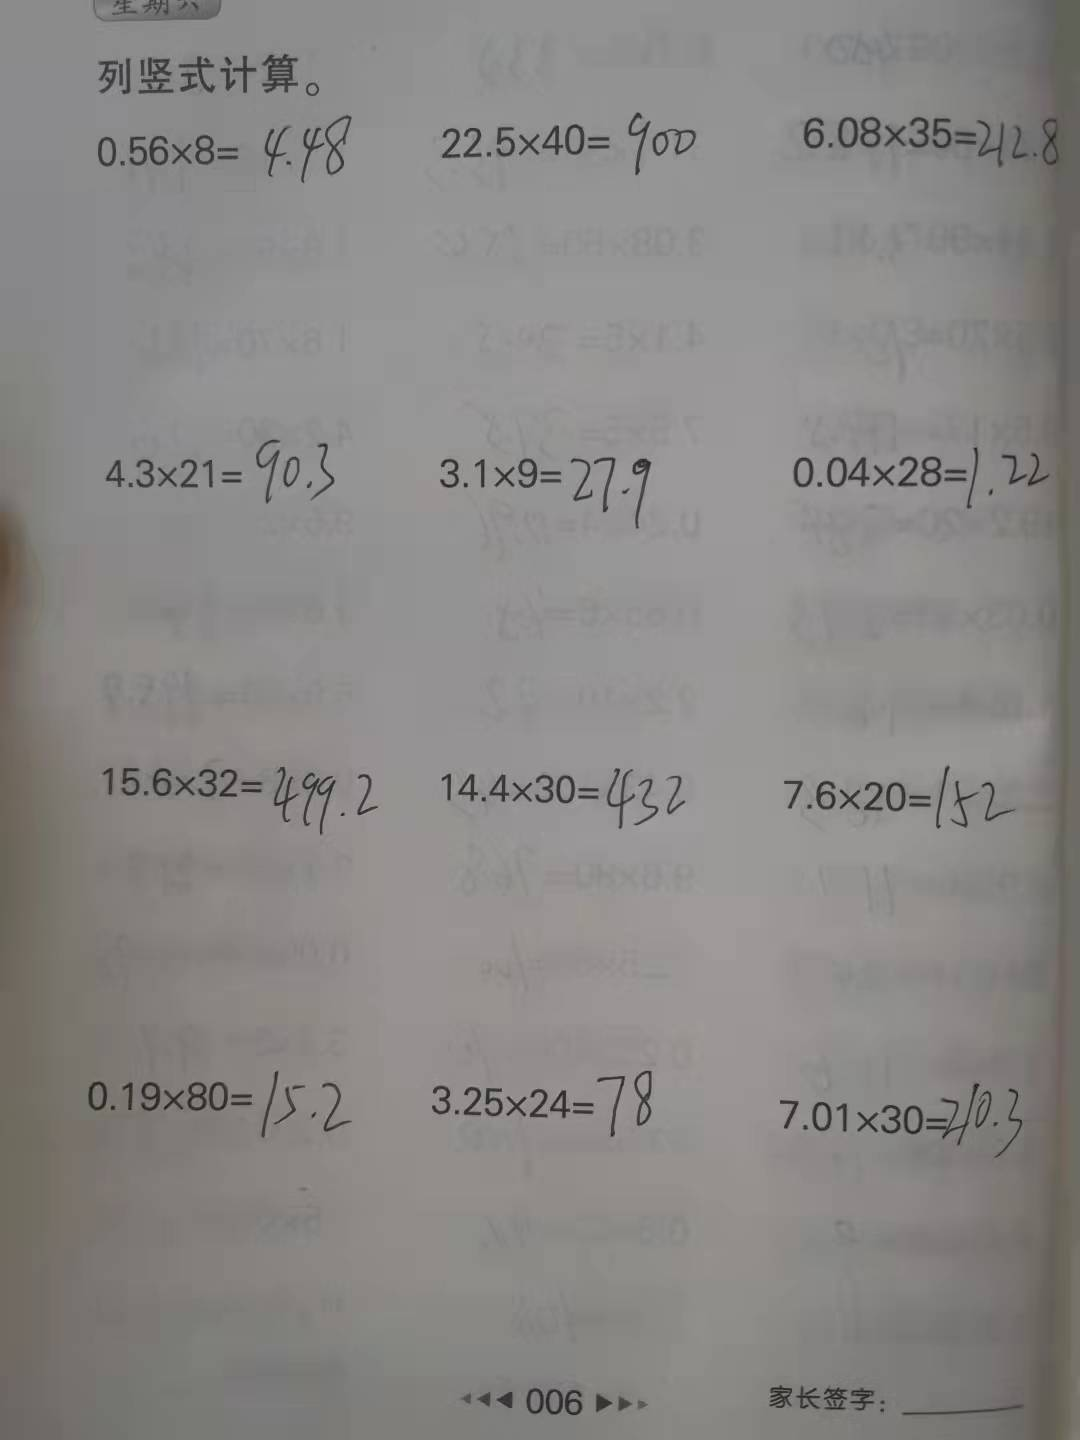equation: (771, 1061, 1032, 1163), (95, 754, 383, 836), (90, 107, 356, 194), (786, 435, 1051, 520), (71, 1064, 357, 1142), (434, 437, 657, 535), (773, 756, 1029, 840), (438, 105, 701, 185), (417, 1061, 660, 1144), (791, 108, 1070, 179), (434, 759, 691, 833), (100, 429, 343, 506)
